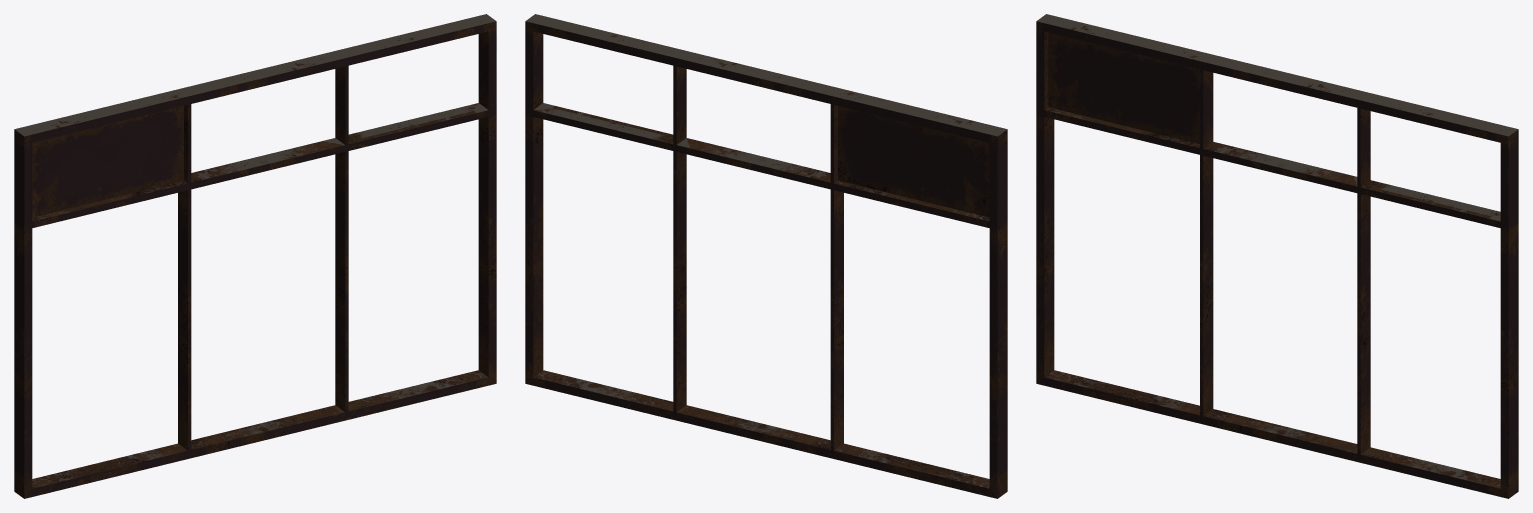
File: VENTANA1.fbx
3 views of the same model, side by side, from view 1: azimuth 30°, elevation 25°; view 2: azimuth 150°, elevation 25°; view 3: azimuth 330°, elevation 25° (orthographic).
Parts seen in each view (by area): view 1: ventana1; view 2: ventana1; view 3: ventana1.
Part boxes in pixels (x1,y1,x2,y2): ventana1: [14, 14, 496, 498]; ventana1: [525, 14, 1007, 498]; ventana1: [1036, 14, 1518, 498].
Bounding box in the file's own units: 300 × 220 × 11.
